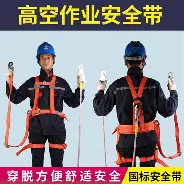safety belt: (107, 77, 165, 165), (18, 73, 74, 155)
